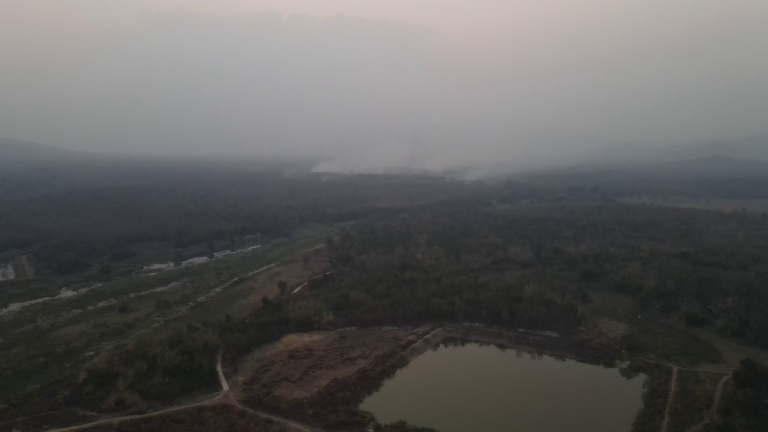smoke: (295, 119, 536, 190)
